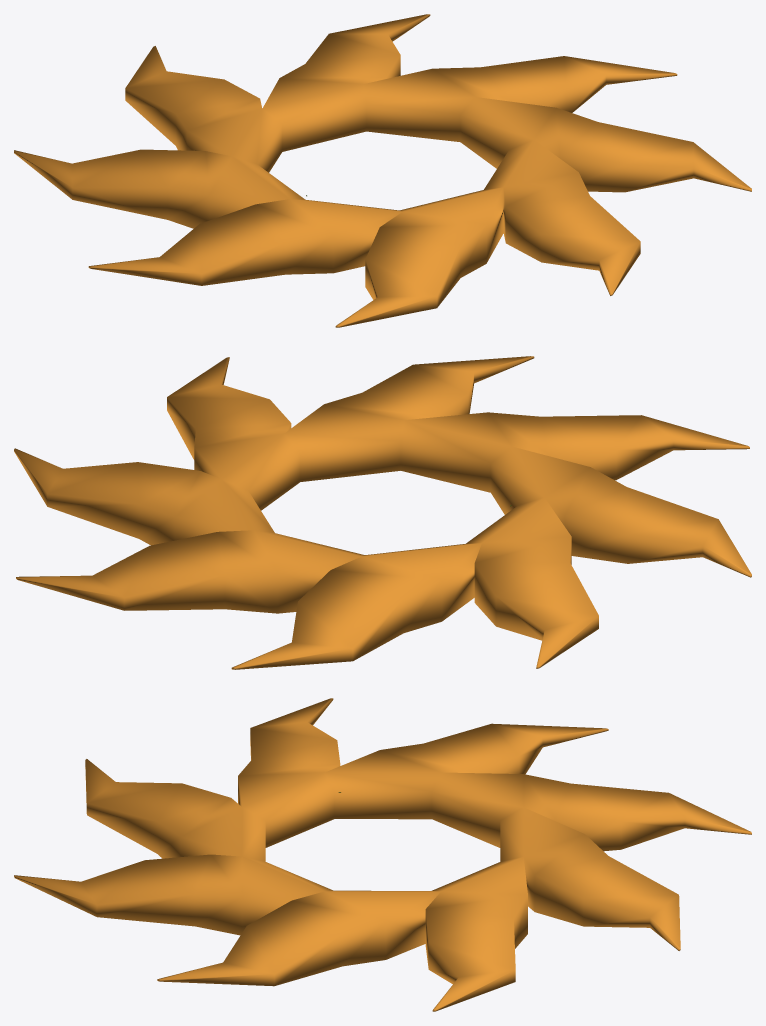
Rendered from sunMedal.obj.
The picture shows the model from 3 angles, top to bottom: view 1: azimuth 30°, elevation 25°; view 2: azimuth 150°, elevation 25°; view 3: azimuth 270°, elevation 25°; orthographic projection. The views are drawn at different scales.
Parts seen in each view (by area): view 1: Circle; view 2: Circle; view 3: Circle.
Part boxes in pixels (x1,y1,x2,y2): Circle: (14,14,751,327); Circle: (14,356,751,669); Circle: (14,698,751,1011).
Size of the model in its own units: 0.4146 by 0.0536 by 0.4146.
Materials: 1 (1 with a texture image).
